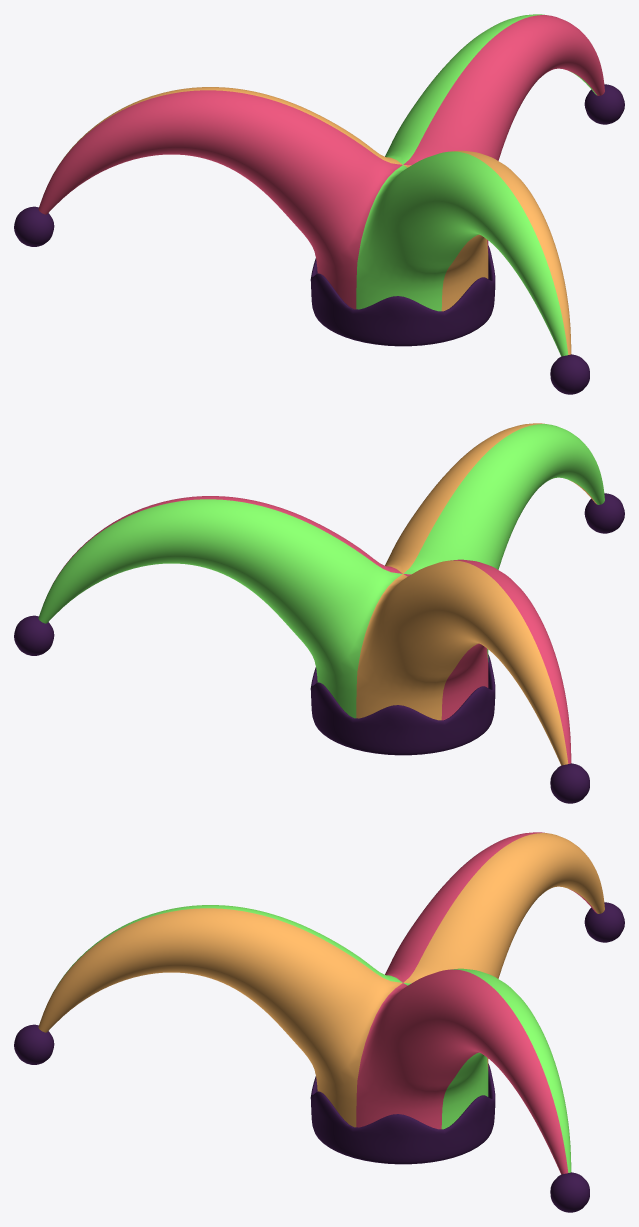
Rendered from ToyObject_147.fbx.
3 views of the same model, one above another, from view 1: azimuth 30°, elevation 25°; view 2: azimuth 150°, elevation 25°; view 3: azimuth 270°, elevation 25° (orthographic).
Visible parts, largest first — view 1: object-1.004; view 2: object-1.004; view 3: object-1.004.
Boxes of the visible parts, bbox=[...] form: object-1.004: bbox=[14, 14, 624, 394]; object-1.004: bbox=[14, 423, 624, 803]; object-1.004: bbox=[14, 832, 624, 1212].
Bounding box in the file's own units: 0.2843 × 0.099 × 0.2558.
